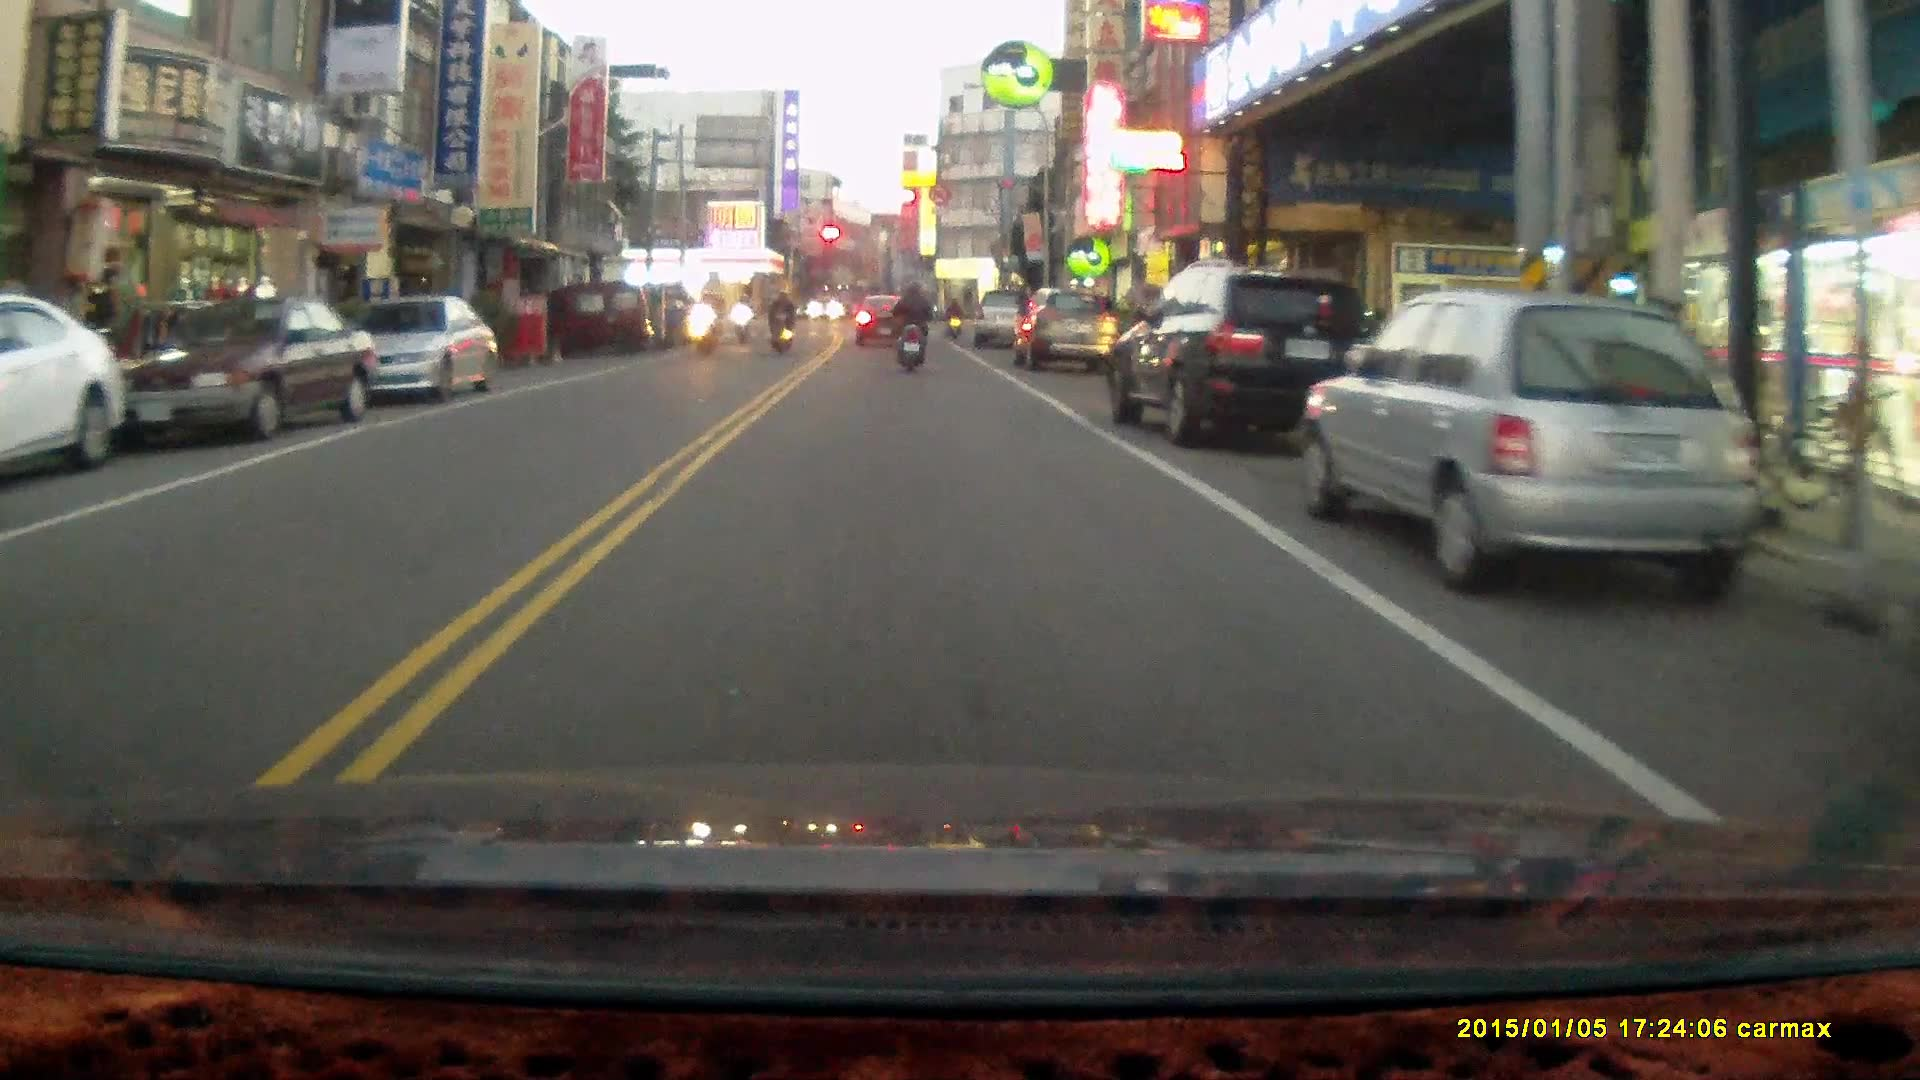rider: (890, 281, 931, 377), (690, 289, 720, 357), (766, 288, 795, 354), (730, 294, 754, 350), (942, 296, 964, 340)
vehicle: (1296, 291, 1777, 593), (1110, 263, 1382, 453), (97, 295, 378, 445), (1, 298, 134, 493), (339, 295, 498, 405), (1016, 292, 1123, 376), (567, 284, 660, 355), (972, 289, 1040, 354)
